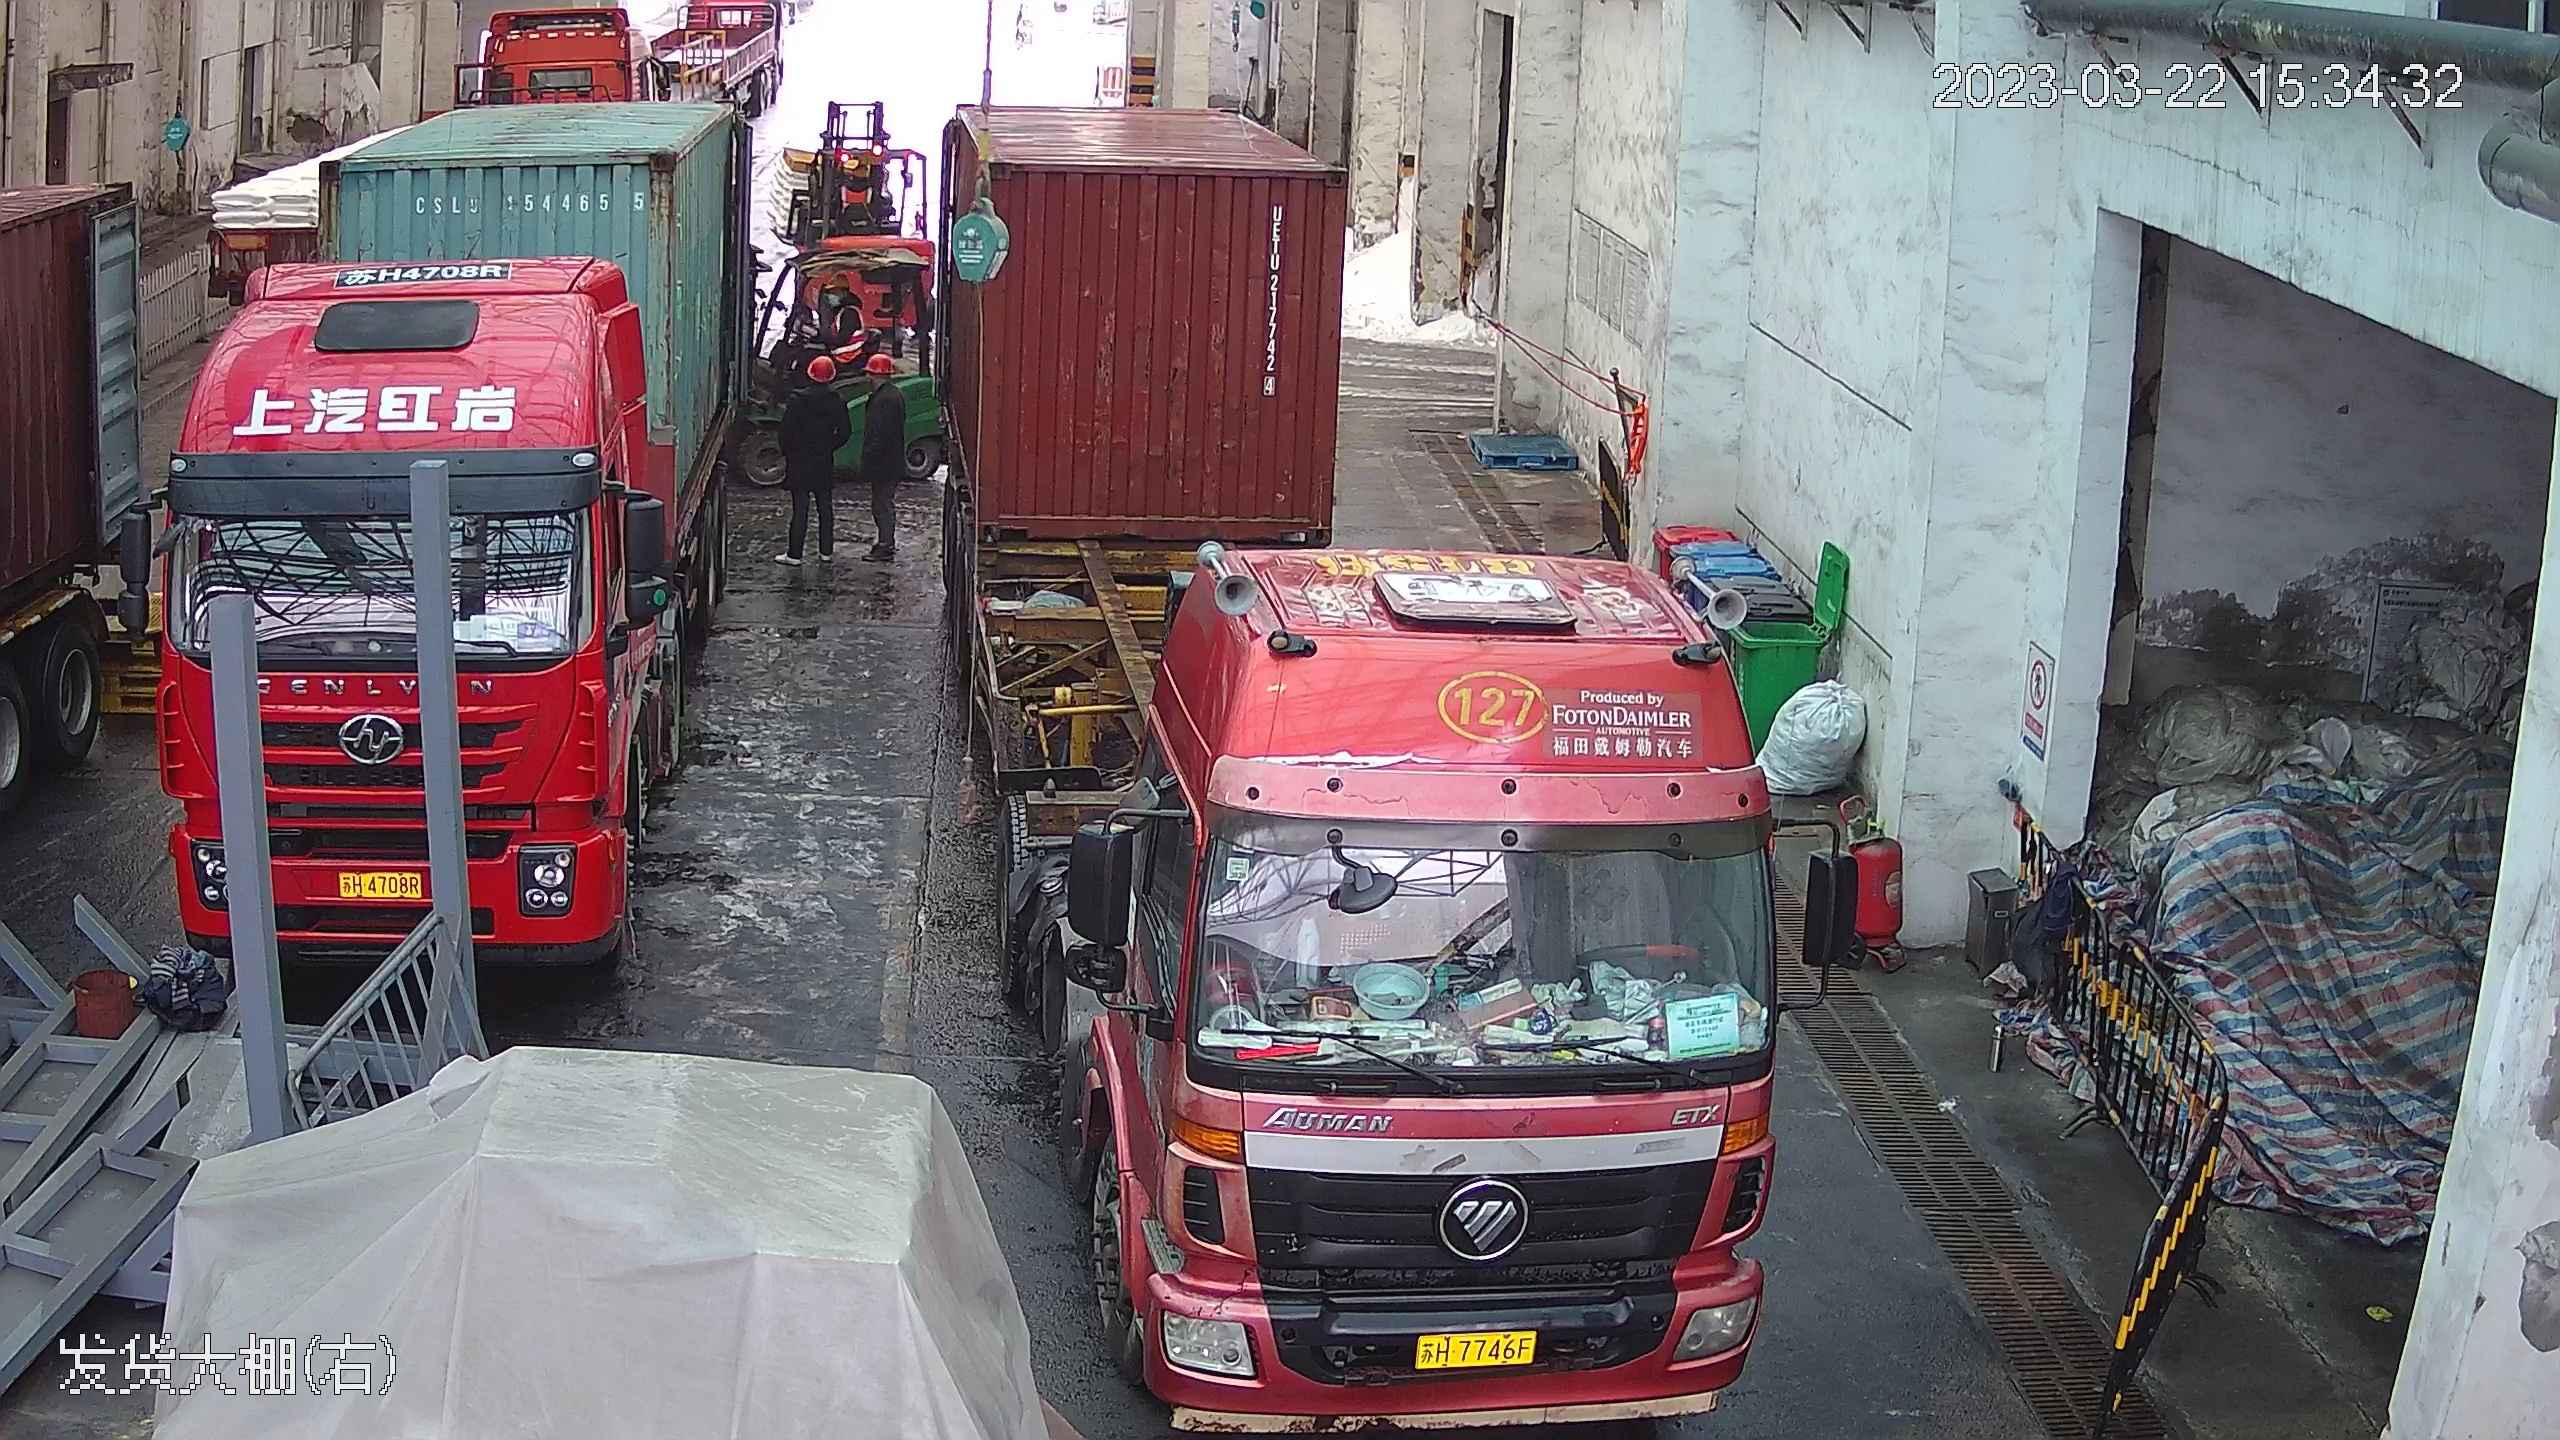head: (788, 352, 847, 420), (858, 355, 909, 428), (821, 271, 866, 337)
helmet: (807, 354, 840, 385), (863, 355, 895, 375), (822, 274, 850, 289)
people: (773, 352, 849, 567), (855, 347, 911, 579), (804, 270, 870, 365)
truck: (920, 42, 1807, 1432), (151, 16, 757, 969), (2, 101, 150, 1102)
